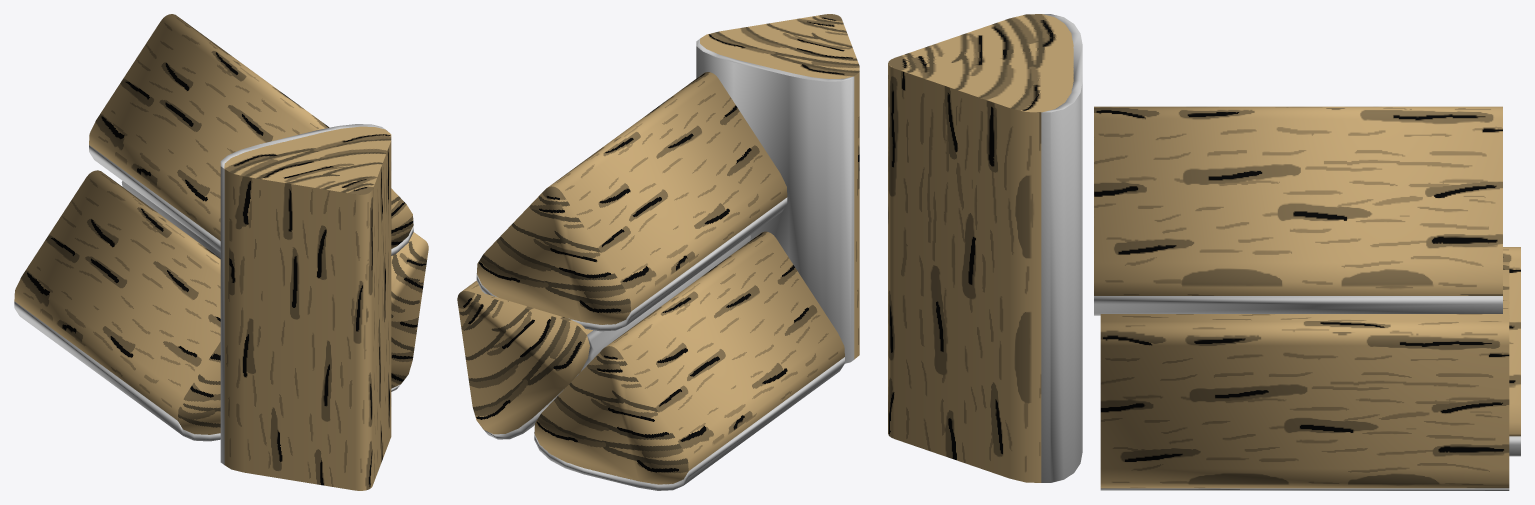
Rendered from StackOfLenha.fbx.
3 renders of one model, left to right at view 1: azimuth 30°, elevation 25°; view 2: azimuth 150°, elevation 25°; view 3: azimuth 270°, elevation 25°, orthographic. The views are drawn at different scales.
Parts seen in each view (by area): view 1: lenha.002, lenha, lenha.001, lenha.003; view 2: lenha, lenha.001, lenha.002, lenha.003; view 3: lenha.001, lenha.002, lenha.003, lenha.
Boxes of the visible parts, left/top/right/bottom form: lenha.002: left=220, top=124, right=391, bottom=490; lenha: left=14, top=170, right=220, bottom=441; lenha.001: left=89, top=14, right=413, bottom=255; lenha.003: left=121, top=181, right=428, bottom=391; lenha: left=534, top=231, right=844, bottom=490; lenha.001: left=476, top=72, right=787, bottom=331; lenha.002: left=696, top=14, right=859, bottom=363; lenha.003: left=457, top=235, right=750, bottom=439; lenha.001: left=1094, top=106, right=1502, bottom=315; lenha.002: left=888, top=14, right=1082, bottom=482; lenha.003: left=1100, top=262, right=1509, bottom=490; lenha: left=1503, top=247, right=1520, bottom=456.
Size of the model in its own units: 23.56 by 27.24 by 41.9.
